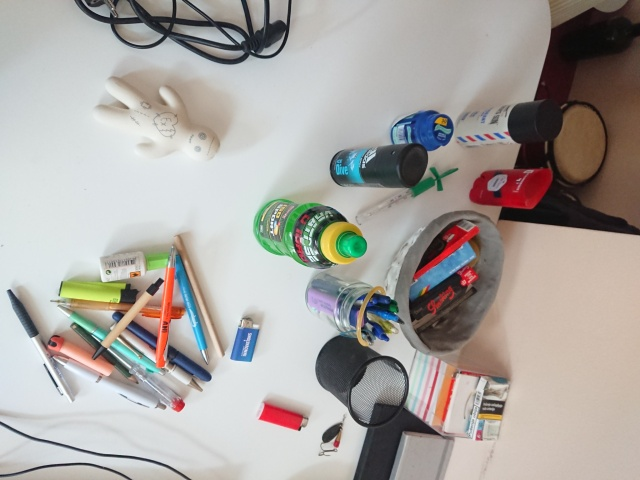Vindi Iso Sport Lemon-Grapefruit 500mL: (250, 196, 370, 272)
